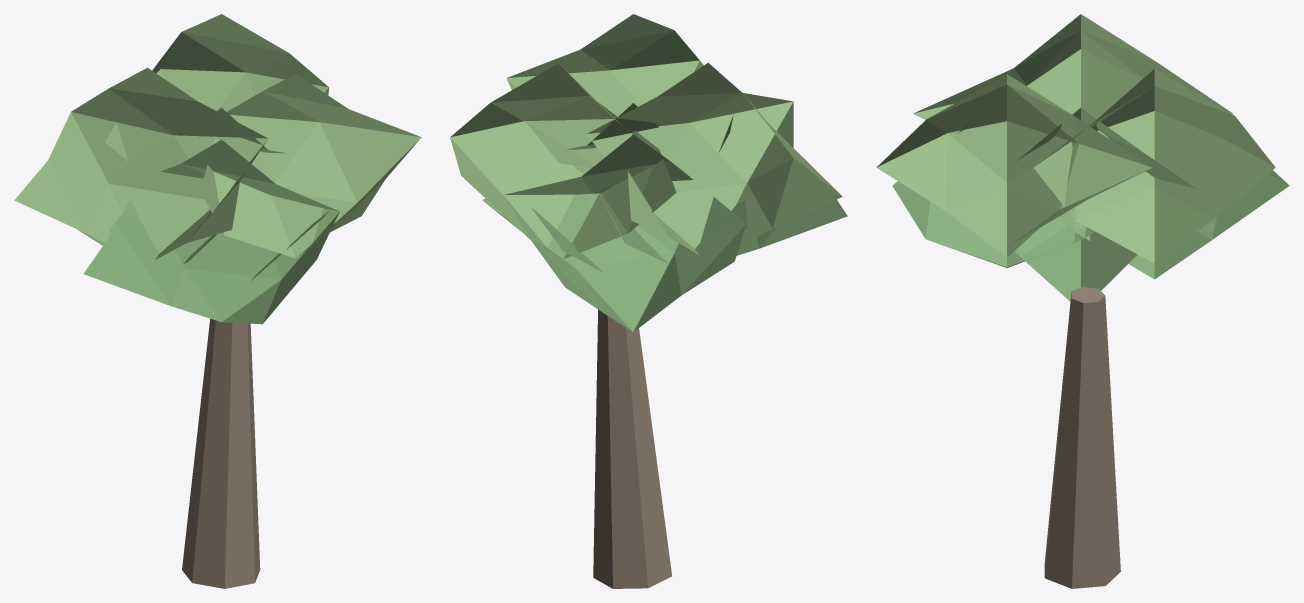
Rendered from broadleaf_v32.glb.
3 renders of one model, left to right at view 1: azimuth 30°, elevation 25°; view 2: azimuth 150°, elevation 25°; view 3: azimuth 270°, elevation 25°, orthographic.
Parts seen in each view (by area): view 1: lod0; view 2: lod0; view 3: lod0.
Part boxes in pixels (x1=…): lod0: x1=14, y1=14, x2=421, y2=588; lod0: x1=450, y1=14, x2=847, y2=588; lod0: x1=876, y1=14, x2=1289, y2=588.
Size of what is drawn, in the model's own units: 3.82 by 5.18 by 3.72.
